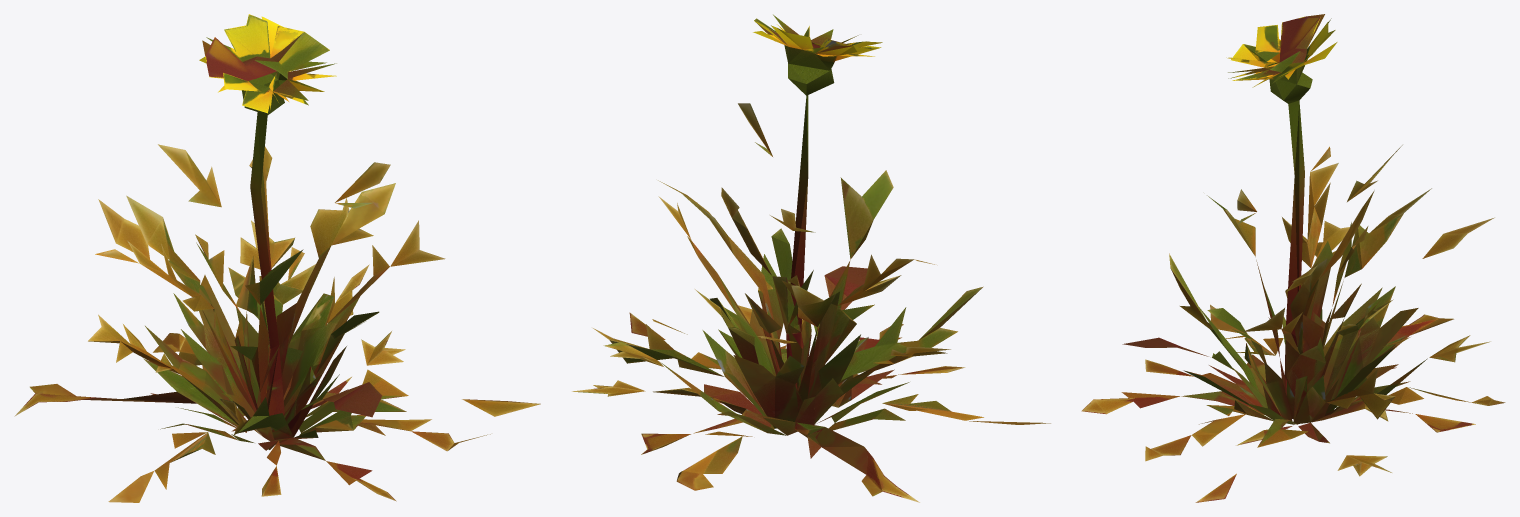
The model's file is weed.glb.
3 views of the same model, side by side, from view 1: azimuth 30°, elevation 25°; view 2: azimuth 150°, elevation 25°; view 3: azimuth 270°, elevation 25° (orthographic). The views are drawn at different scales.
Bounding box in the file's own units: 1.86 × 1.68 × 1.69.
Materials: 1 (1 with a texture image).
